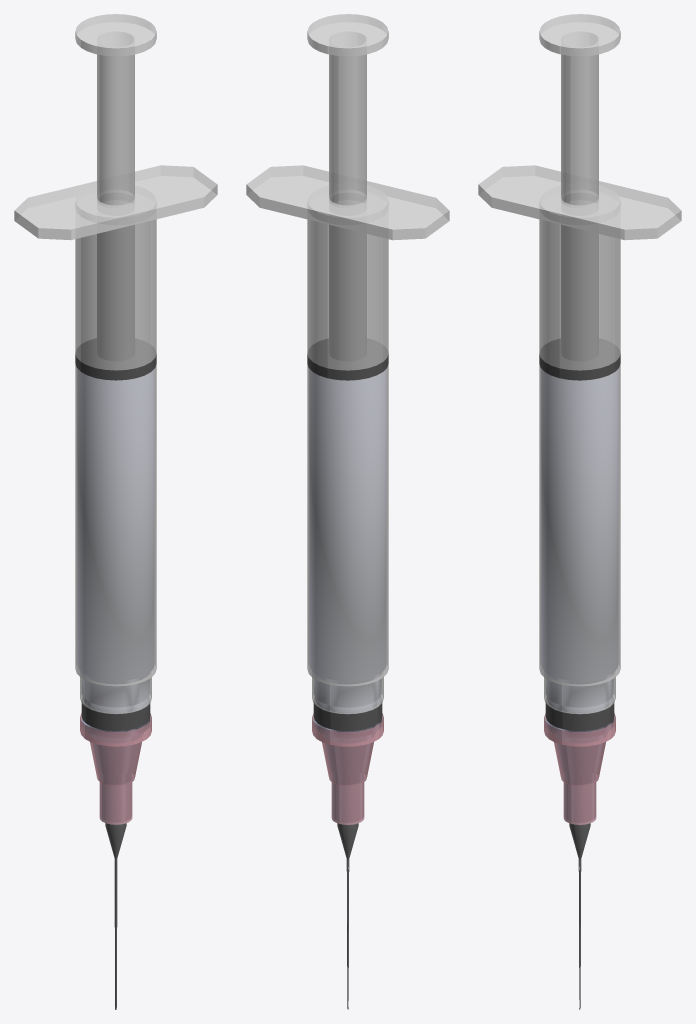
File: Syringe.fbx
The picture shows the model from 3 angles, left to right: view 1: azimuth 30°, elevation 25°; view 2: azimuth 150°, elevation 25°; view 3: azimuth 330°, elevation 25°; orthographic projection.
Visible parts, largest first — view 1: Plane, Inside; view 2: Plane, Inside; view 3: Plane, Inside.
Part boxes in pixels (bbox=[...]): Plane: bbox=[14, 14, 217, 1009]; Inside: bbox=[77, 369, 154, 821]; Plane: bbox=[246, 14, 449, 1009]; Inside: bbox=[309, 369, 386, 822]; Plane: bbox=[478, 14, 681, 1009]; Inside: bbox=[541, 369, 618, 822].
Size of the model in its own units: 232 by 1212 by 97.68.
